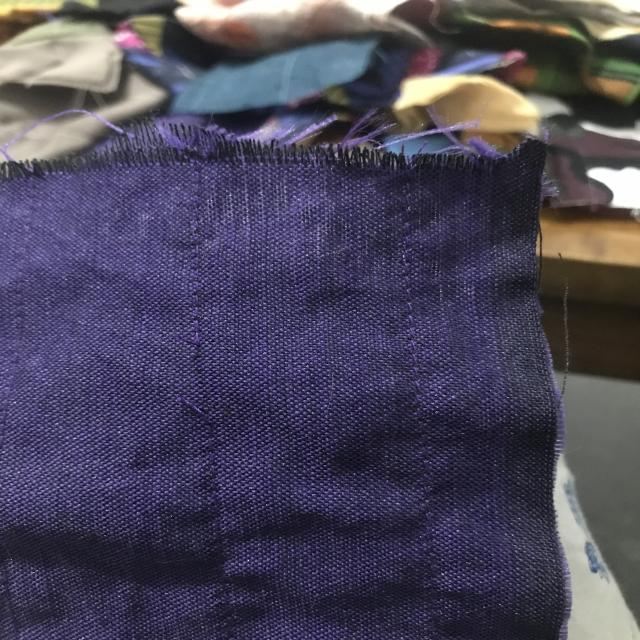broken: (168, 322, 248, 440)
